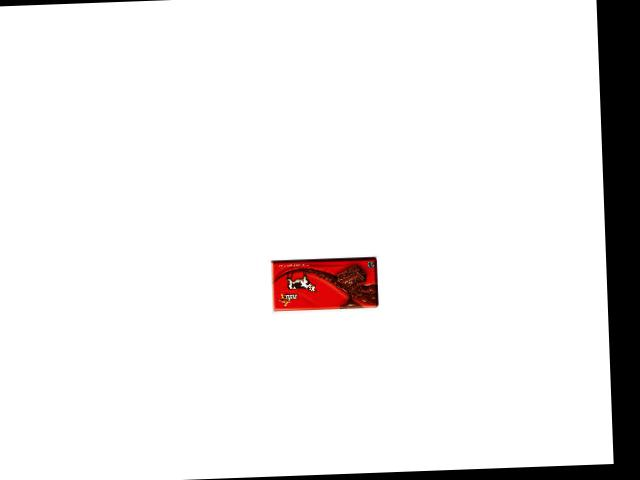chocolate: (267, 251, 381, 313)
